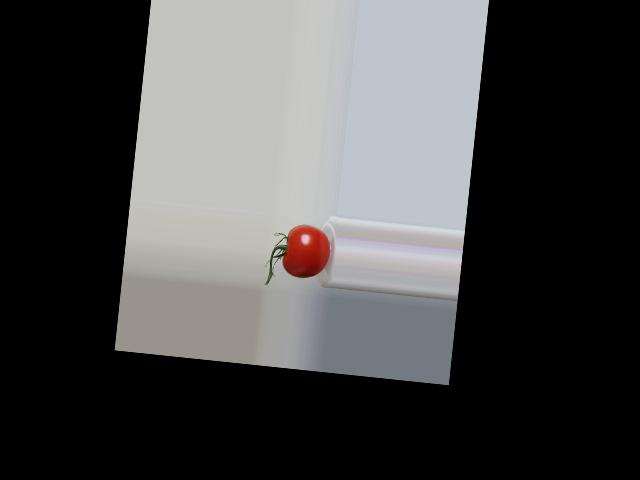tomato: (281, 222, 332, 281)
